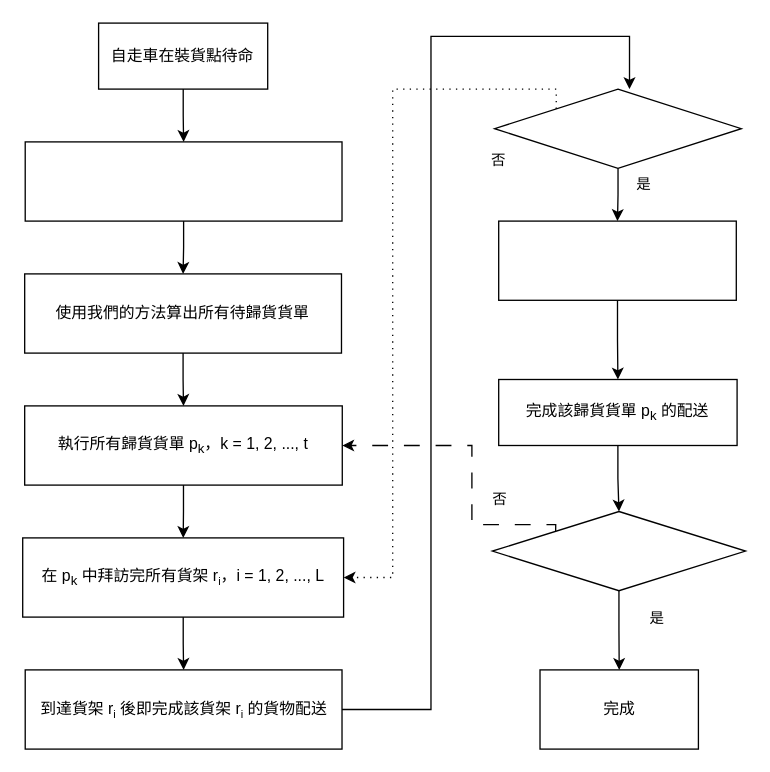
The diagram is 770 pixels wide and 772 high, and some of its shapes have lost their labels. The shapes that lost their labels are listed below. From the top down, each one's centre as x and y in pixels, then its label:
[617,128]: 檢查 i 是否 = L
[183,181]: 系統讀取所有需要運送的貨物資訊
[616,260]: 當歸貨貨單 p k 中所有貨架 皆拜訪完成後， 返回裝貨點
[618,550]: 檢查 k 是否 = t
